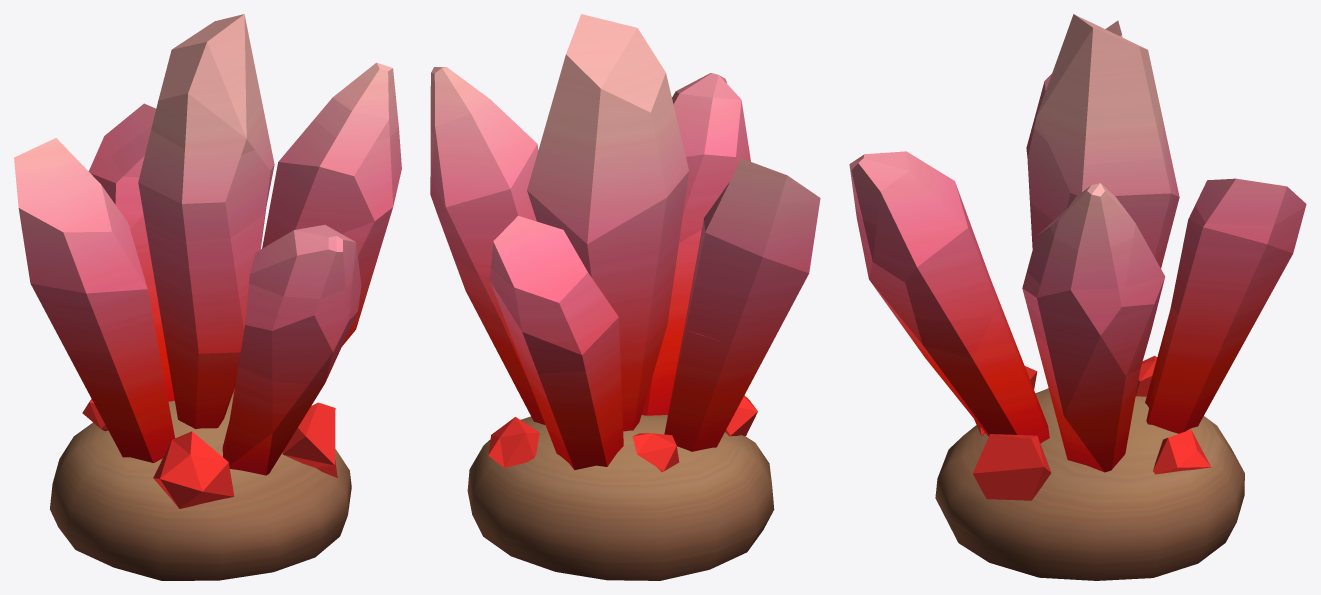
The model's file is Crystals_D.fbx.
The picture shows the model from 3 angles, left to right: view 1: azimuth 30°, elevation 25°; view 2: azimuth 150°, elevation 25°; view 3: azimuth 270°, elevation 25°; orthographic projection. The views are drawn at different scales.
Parts seen in each view (by area): view 1: Crystal4, Crystal, Crystal3, Crystal2, Crystal5; view 2: Crystal4, Crystal, Crystal3, Crystal2, Crystal5; view 3: Crystal, Crystal3, Crystal2, Crystal4, Crystal5.
Boxes of the visible parts, x1=… form: Crystal4: x1=19, y1=103, x2=401, y2=305; Crystal: x1=50, y1=388, x2=351, y2=580; Crystal3: x1=42, y1=141, x2=401, y2=384; Crystal2: x1=66, y1=257, x2=377, y2=475; Crystal5: x1=14, y1=14, x2=398, y2=213; Crystal4: x1=430, y1=73, x2=819, y2=296; Crystal: x1=467, y1=395, x2=774, y2=580; Crystal3: x1=430, y1=146, x2=797, y2=373; Crystal2: x1=453, y1=257, x2=773, y2=470; Crystal5: x1=430, y1=14, x2=820, y2=203; Crystal: x1=935, y1=355, x2=1244, y2=580; Crystal3: x1=855, y1=199, x2=1305, y2=353; Crystal2: x1=892, y1=306, x2=1263, y2=472; Crystal4: x1=849, y1=74, x2=1306, y2=289; Crystal5: x1=1034, y1=14, x2=1163, y2=250.
Size of the model in its own units: 79.37 by 80.12 by 99.41.
